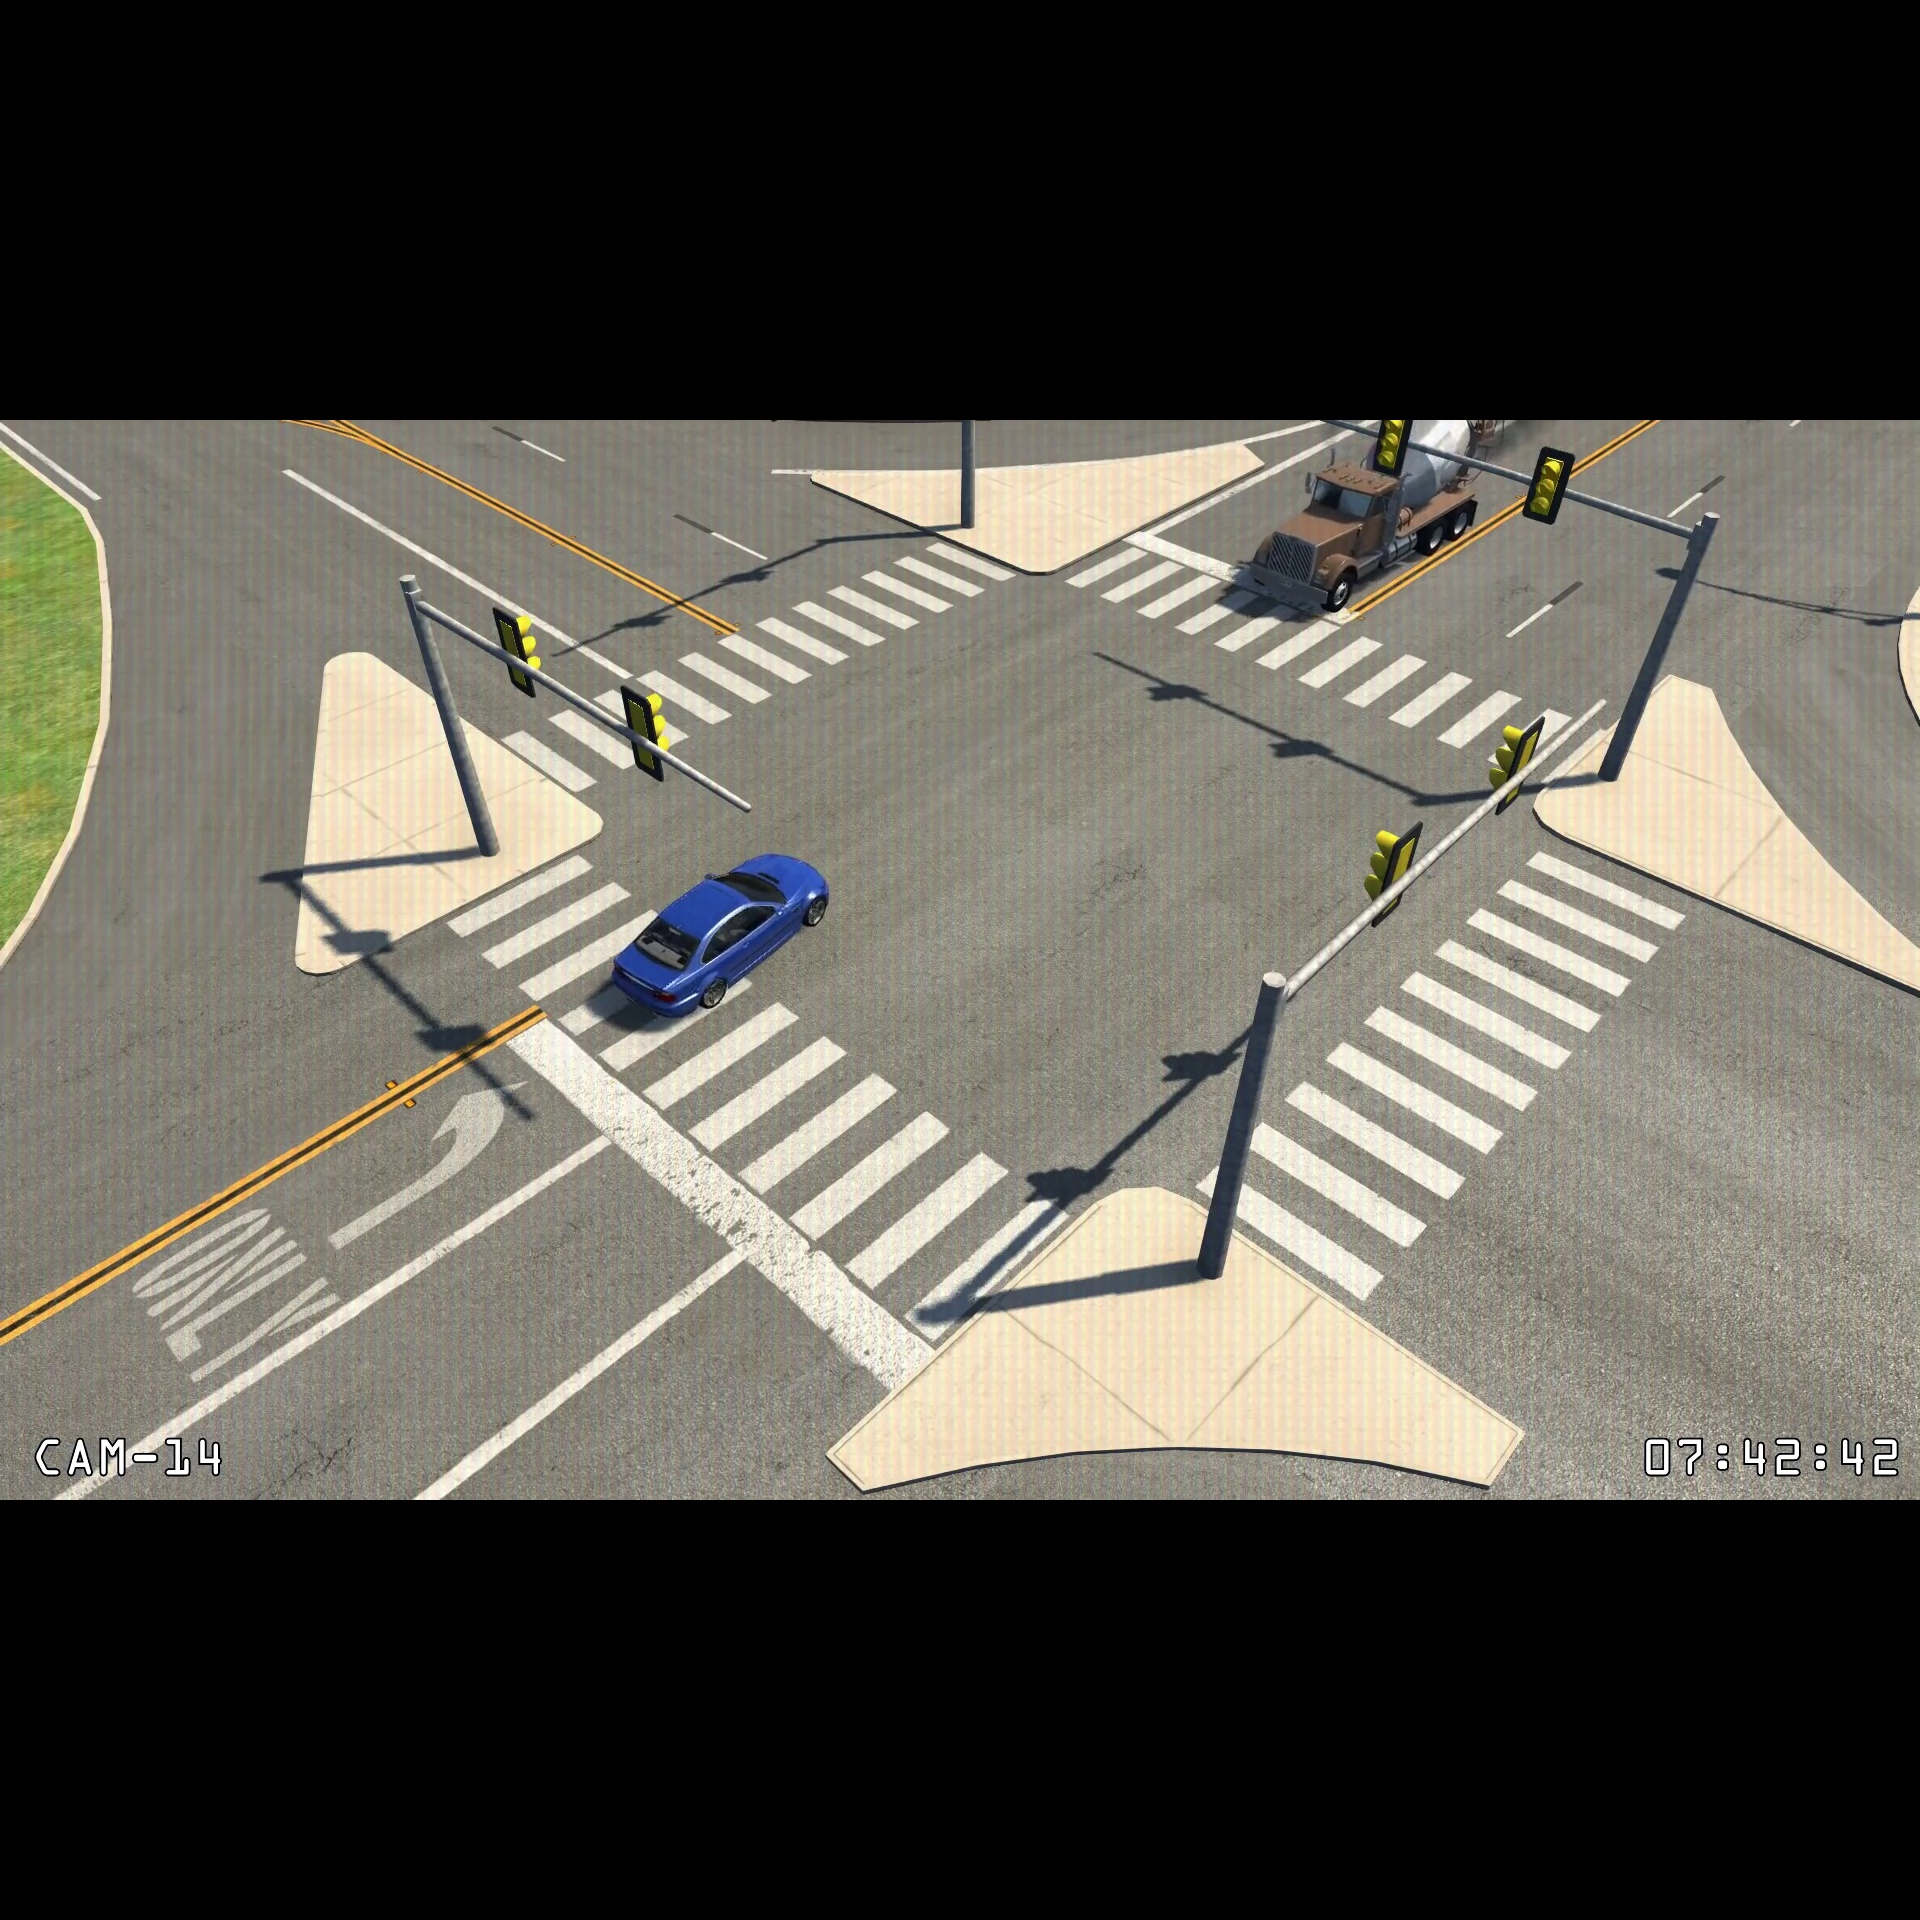vehicle: (1241, 418, 1493, 622), (612, 839, 847, 1016)
